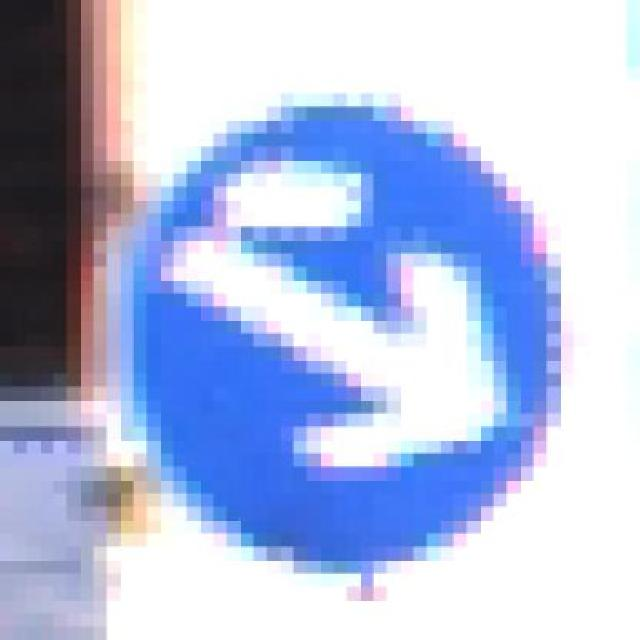Keep-Right: (80, 79, 574, 587)
